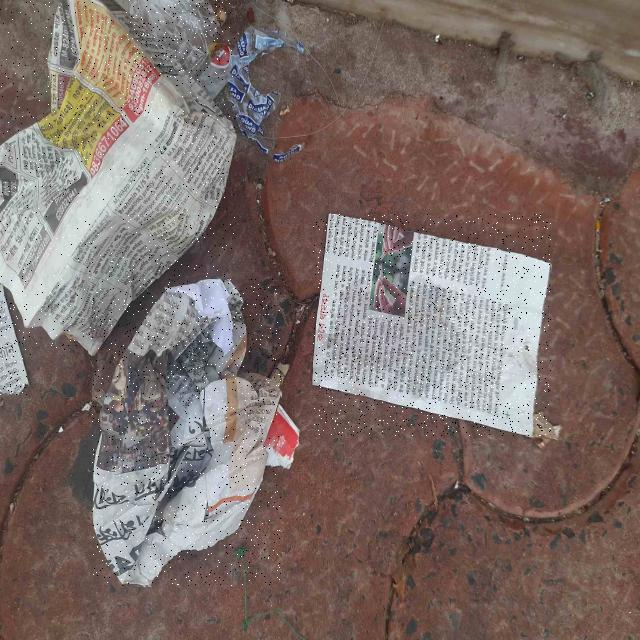paper: (0, 0, 235, 355), (92, 280, 281, 586), (313, 214, 551, 436), (0, 286, 27, 395)
plastic: (130, 0, 218, 78)
